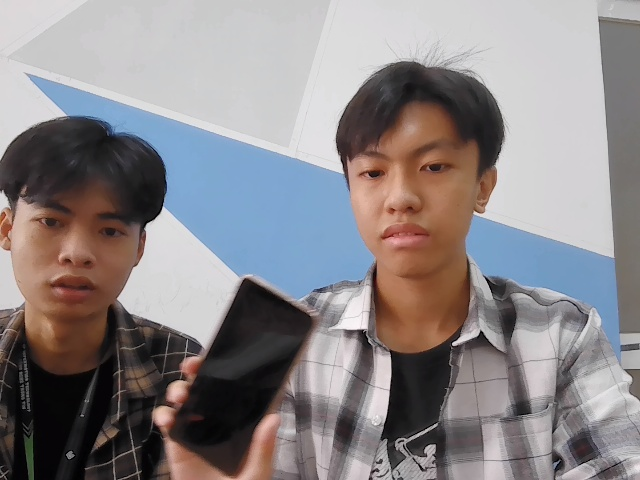human: (342, 53, 504, 278), (3, 115, 166, 317)
phone: (174, 271, 323, 466)
